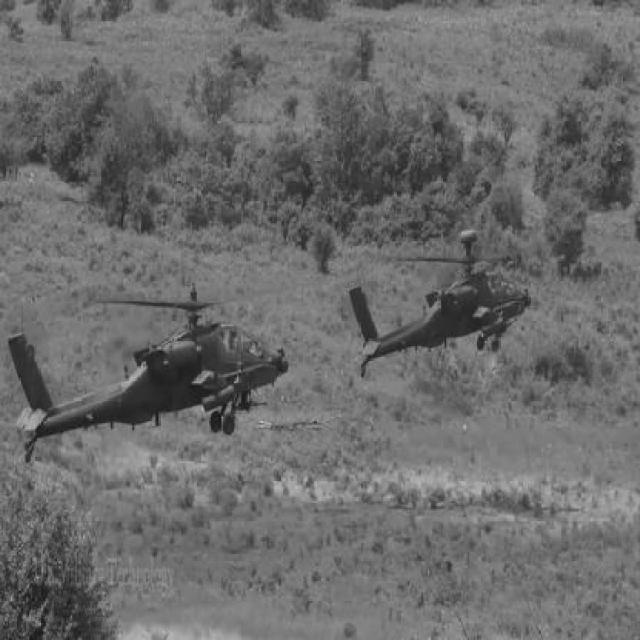Helicopter: (7, 274, 341, 465), (347, 229, 589, 381)
